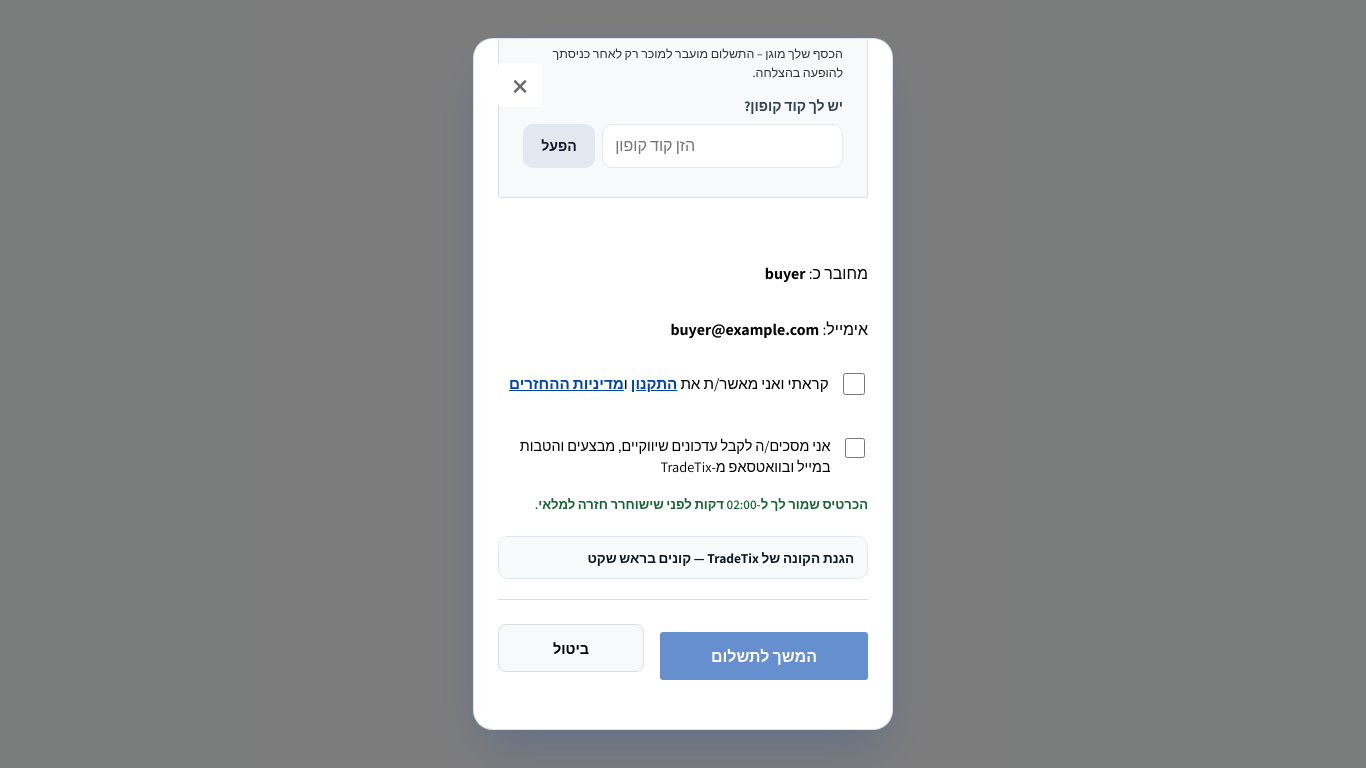
Test: CheckoutModal submit lock › unlocks the Pay button and shows a connection error after a timeout
The width and height of the screenshot is (1366, 768).
(page scrolled)
Click the checkbox labelled "קראתי ואני מאשר/ת את התקנון ו מדיניות ההחזרים" at point(854, 384), box [843, 373, 865, 395]
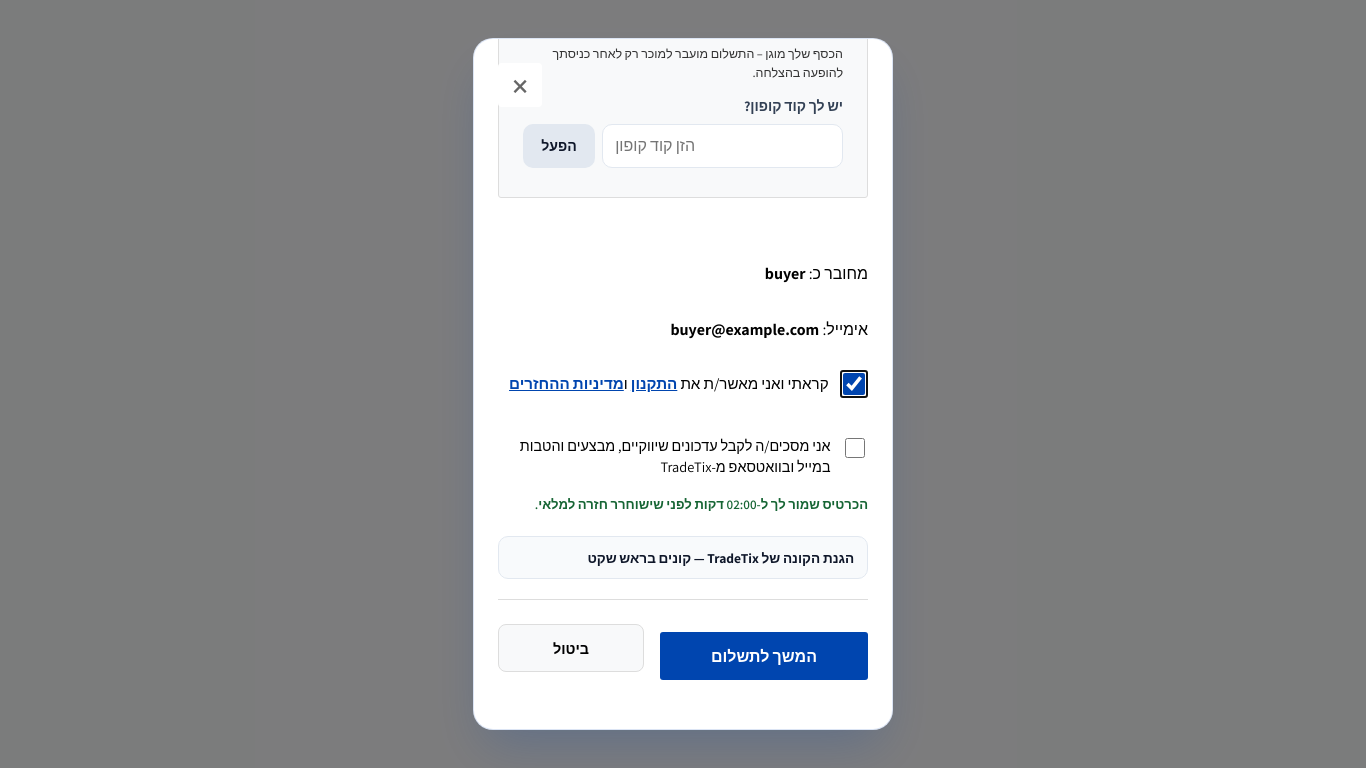
Result: the button "המשך לתשלום" is enabled
Click the button "המשך לתשלום" at point(764, 657), box [660, 633, 868, 681]
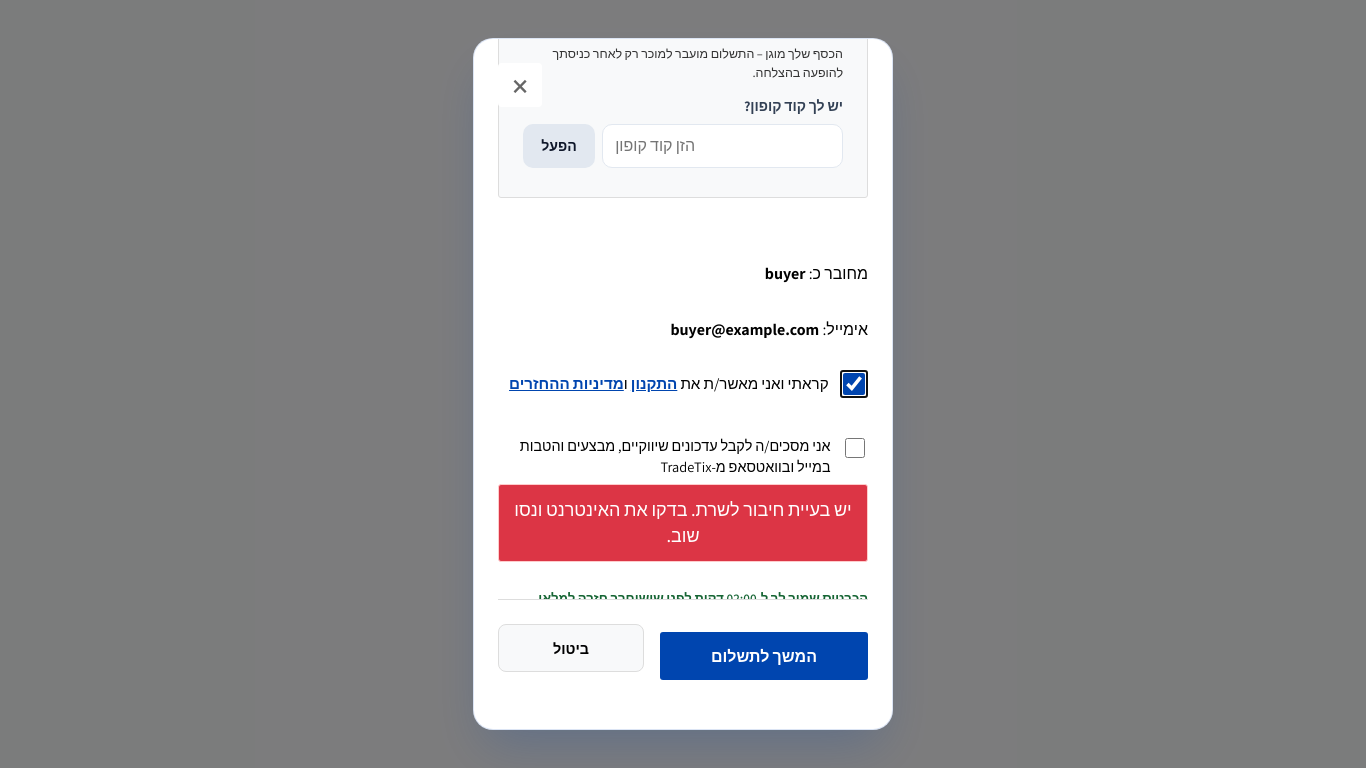
Result: the button "המשך לתשלום" is enabled at [660, 633, 868, 681]
Result: the text "יש בעיית חיבור לשרת. בדקו את האינטרנט ונסו שוב." is shown at [498, 484, 868, 562]
